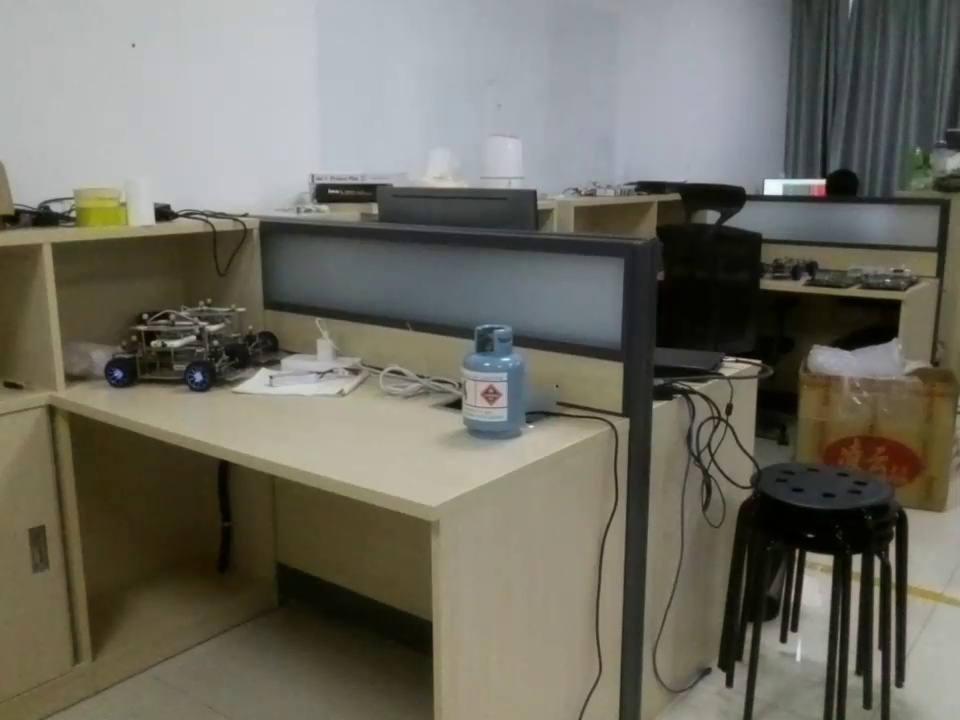gas tank: (451, 319, 537, 438)
